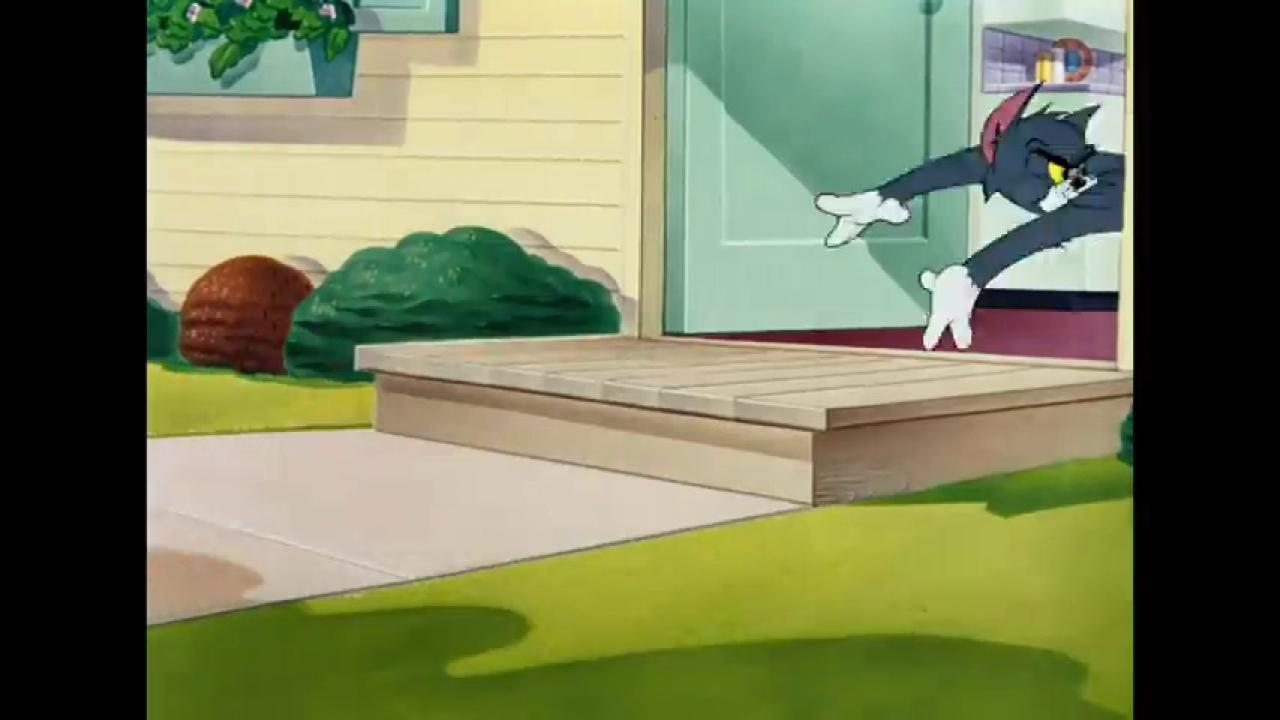Tom: (816, 77, 1125, 353)
